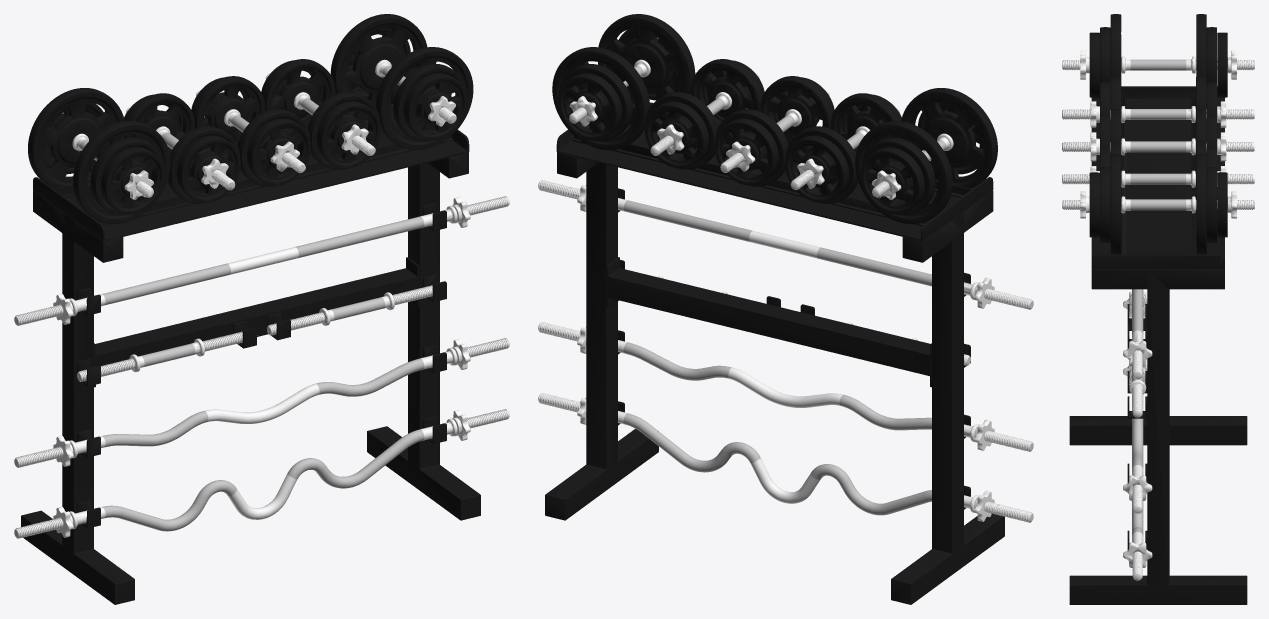
Rendered from rack.glb.
3 views of the same model, side by side, from view 1: azimuth 30°, elevation 25°; view 2: azimuth 150°, elevation 25°; view 3: azimuth 270°, elevation 25° (orthographic). The views are drawn at different scales.
Parts seen in each view (by area): view 1: Object_4, Object_16, Object_6; view 2: Object_4, Object_16, Object_6; view 3: Object_4, Object_6, Object_16.
Part boxes in pixels (x1,y1,x2,y2): Object_4: [21, 106, 480, 604]; Object_16: [28, 14, 473, 223]; Object_6: [14, 59, 509, 538]; Object_4: [545, 124, 1004, 604]; Object_16: [552, 14, 997, 224]; Object_6: [538, 59, 1033, 522]; Object_4: [1069, 86, 1247, 604]; Object_6: [1062, 50, 1254, 580]; Object_16: [1089, 14, 1227, 254].
Bounding box in the file's own units: 1.45 × 1.29 × 0.5201.
Materials: 3 (1 with a texture image).
